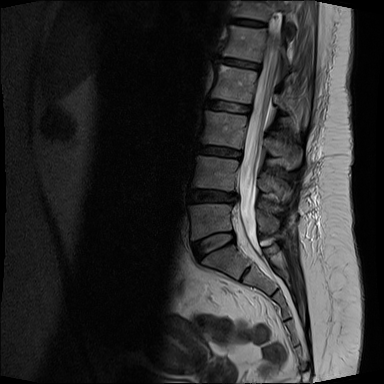Degenerative Disc Disease (DDD): (227, 15, 271, 30)
Lumbar Disc Bulge (LDB): (184, 183, 243, 208)
Normal IVD: (189, 228, 238, 268), (196, 139, 247, 164), (199, 95, 254, 117), (217, 55, 264, 73)
Spinal Stenosis (SS): (225, 188, 245, 210)
